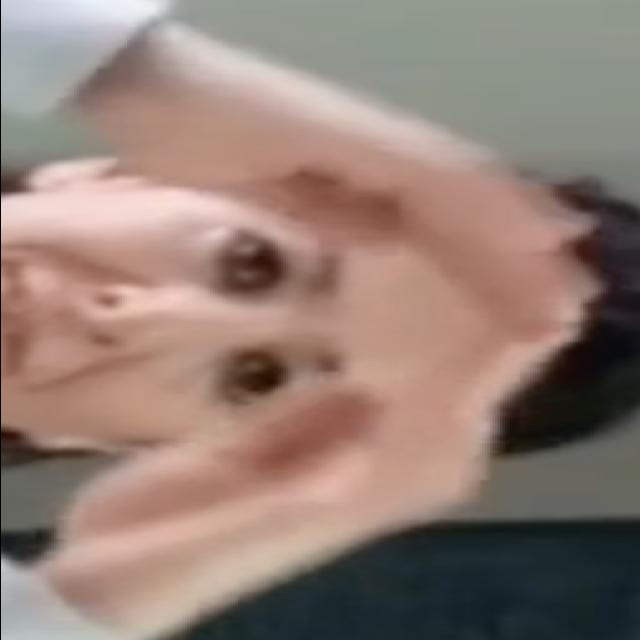casa: (80, 48, 608, 610)
